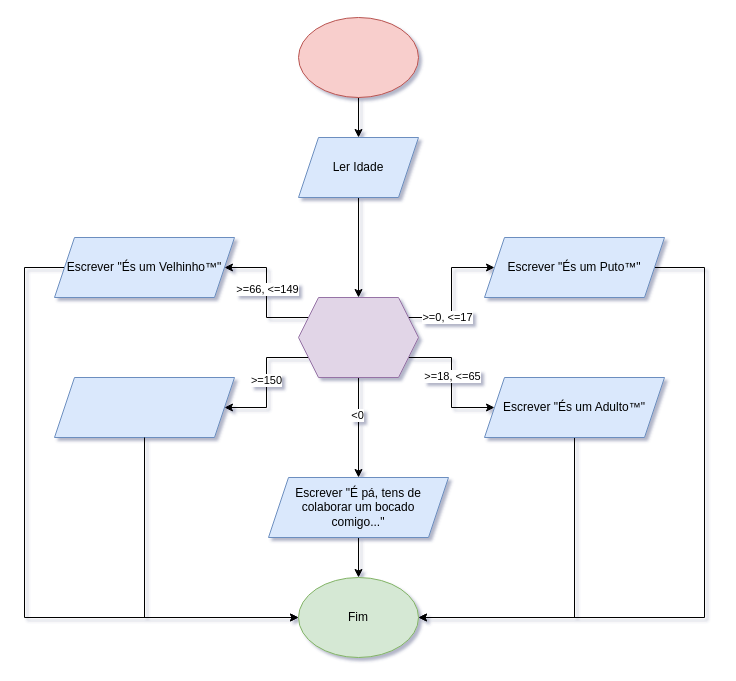
The diagram is 736 pixels wide and 681 high, and some of its shapes have lost their labels. Each missing label, with the box of its shape:
Caso Idade: (298, 296, 418, 378)
Escrever "És um Dinossauro™ ": (54, 376, 234, 438)
Início: (298, 16, 418, 98)
